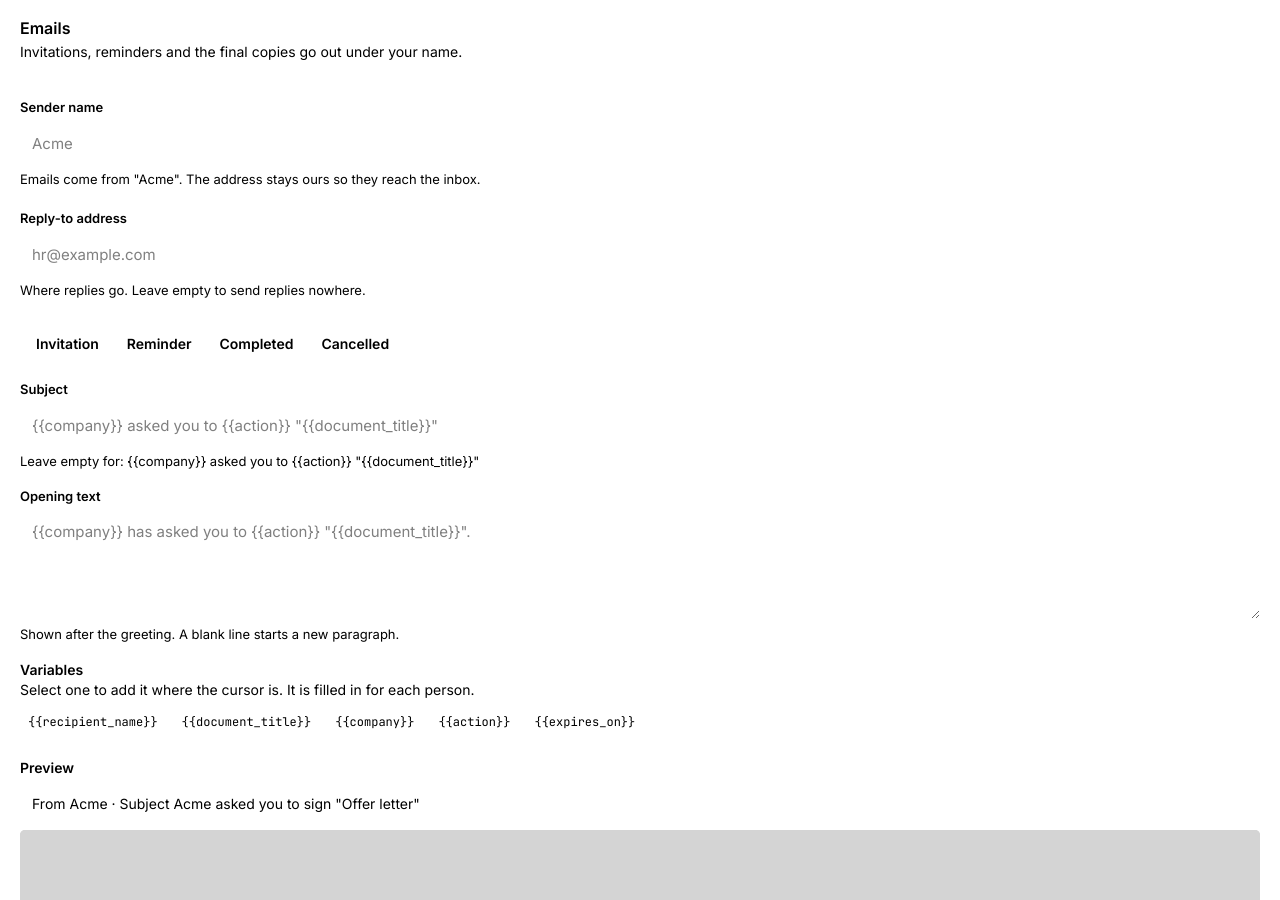
it: EmailBrandForm › updates the preview as the subject, text and sender name change
In the field labelled "Sender name": (640, 144) [20,124,1260,164], type "Acme People"
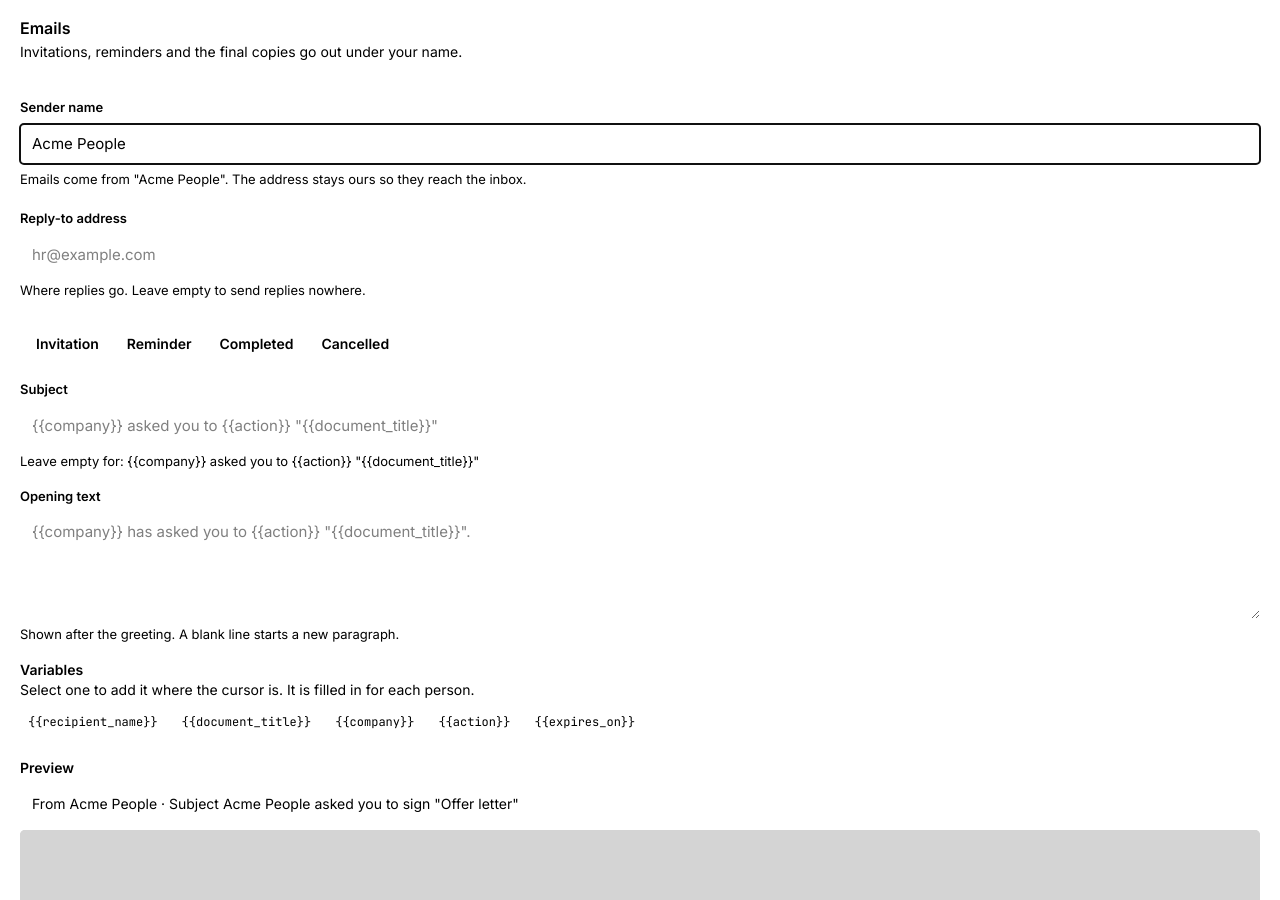
In the text box labelled "Opening text": (640, 566) [20,512,1260,618], type "<b>Welcome</b>"
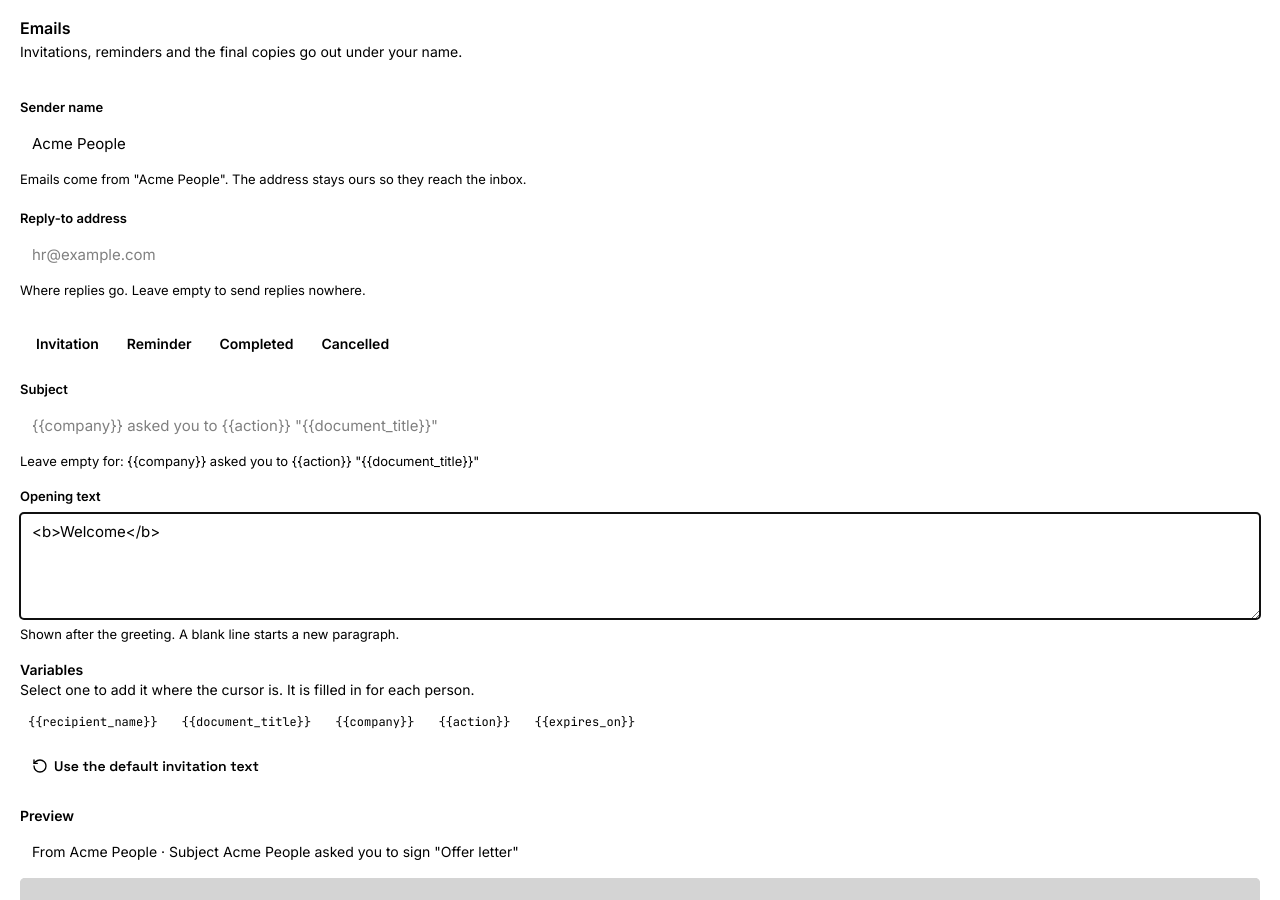
In the field labelled "Subject": (640, 426) [20,406,1260,446], type "Action needed: "
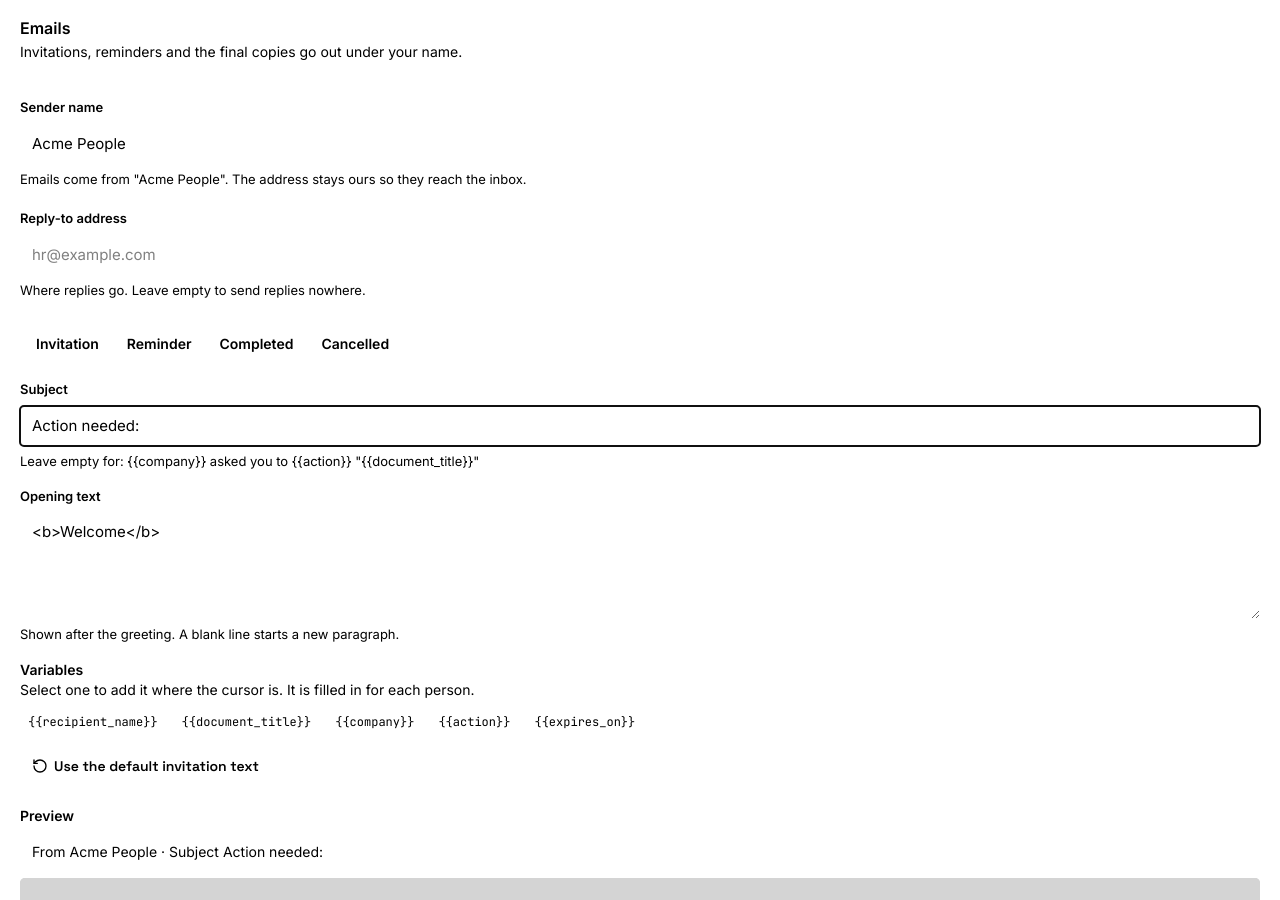
Click the button "{{document_title}}": (246, 722) [174,710,319,734]
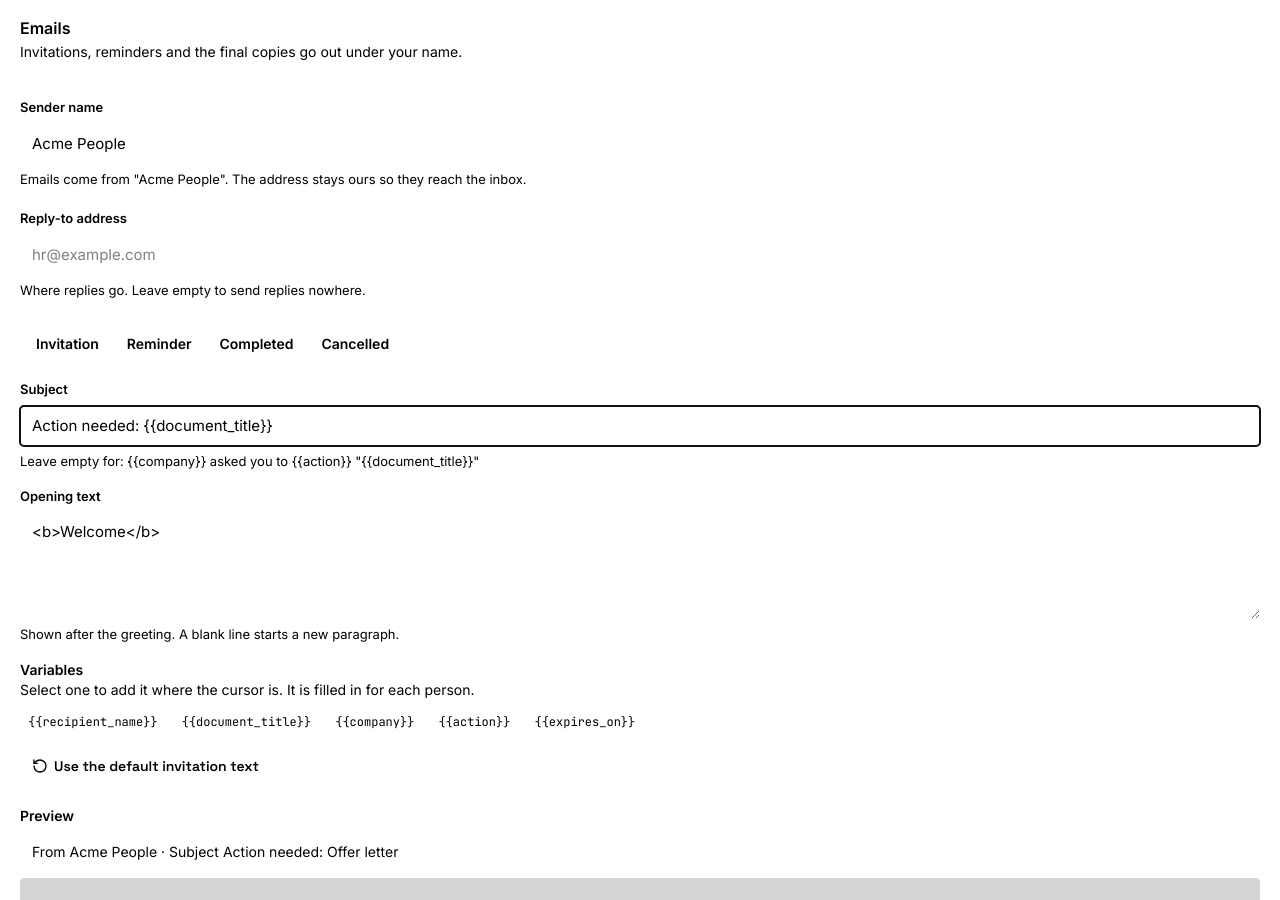
Now the text with test id "preview-from" reads "Acme People", box [70,843,157,860]
Now the text with test id "preview-subject" reads "Action needed: Offer letter", box [223,843,398,860]
